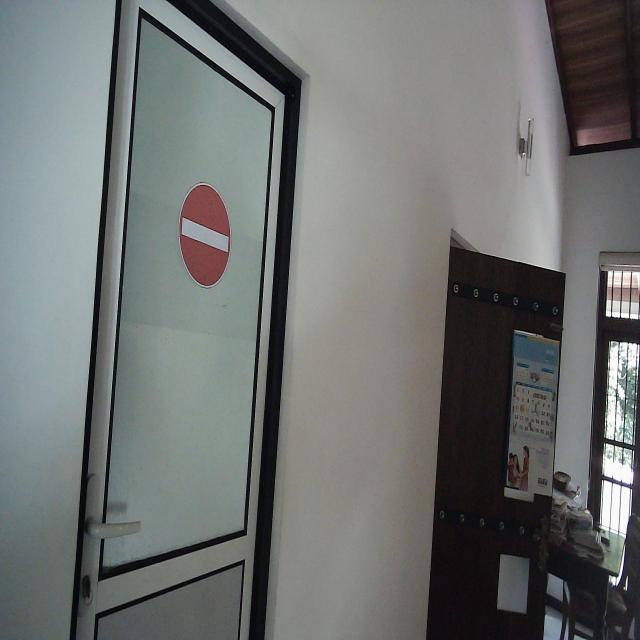no_entry: (178, 180, 234, 290)
